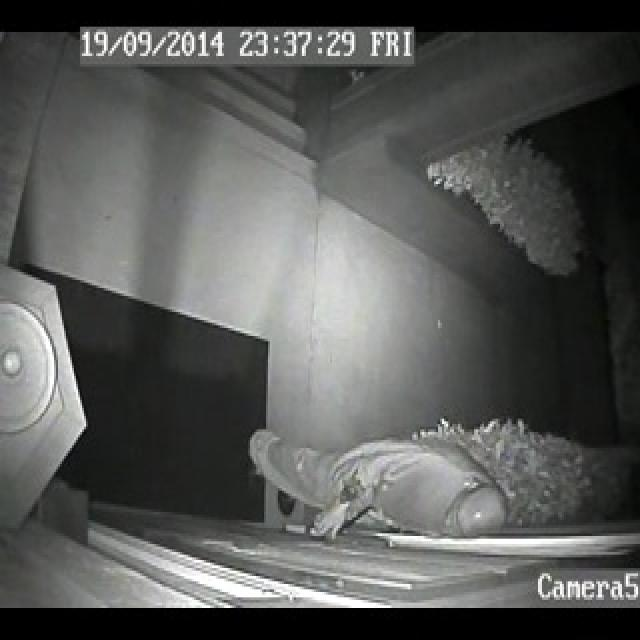burglary: (255, 417, 497, 567)
